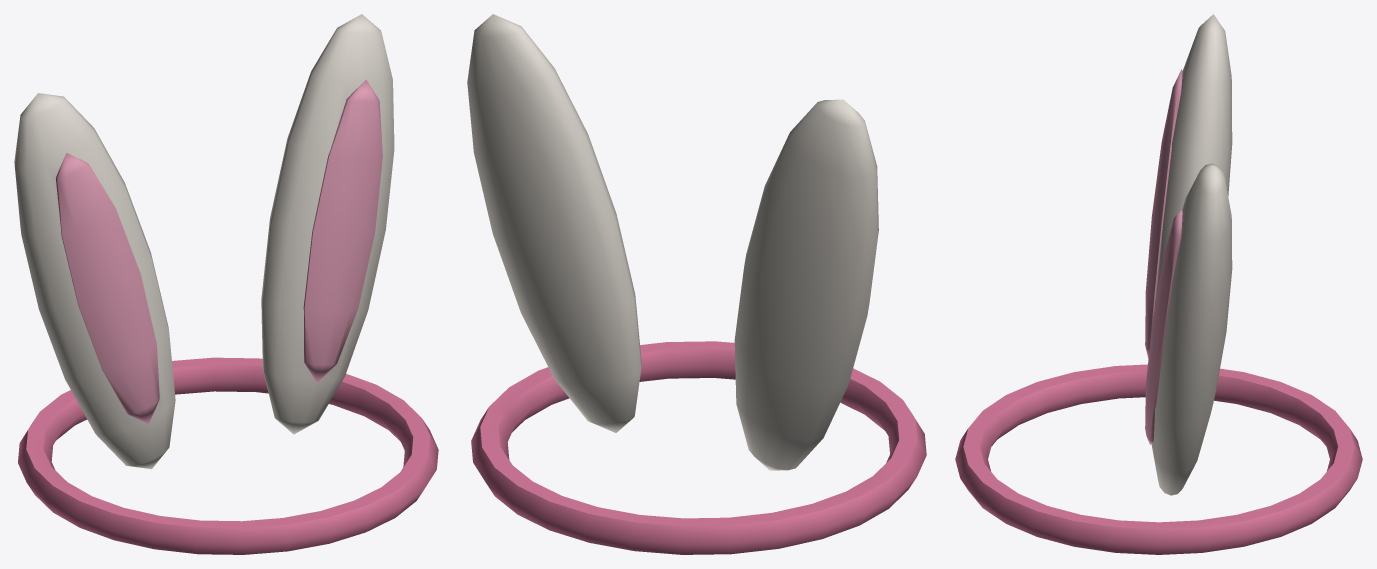
Rendered from hat_bunny.glb.
The picture shows the model from 3 angles, left to right: view 1: azimuth 30°, elevation 25°; view 2: azimuth 150°, elevation 25°; view 3: azimuth 270°, elevation 25°; orthographic projection. The views are drawn at different scales.
Visible parts, largest first — view 1: hat; view 2: hat; view 3: hat.
Part boxes in pixels (x1,y1,x2,y2): hat: (14, 14, 438, 554); hat: (467, 14, 926, 554); hat: (955, 14, 1362, 554).
Size of the model in its own units: 0.3585 by 0.3599 by 0.348.
